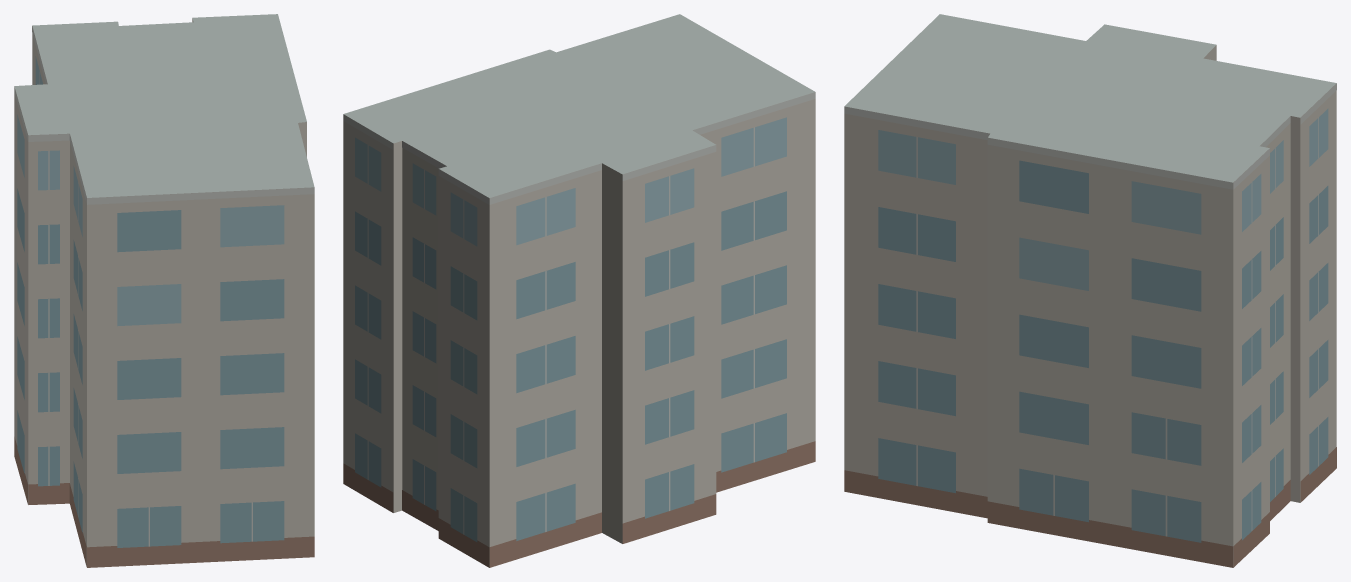
The model's file is survey-upis-32525942.glb.
3 views of the same model, side by side, from view 1: azimuth 30°, elevation 25°; view 2: azimuth 150°, elevation 25°; view 3: azimuth 270°, elevation 25° (orthographic). The views are drawn at different scales.
Parts seen in each view (by area): view 1: survey-upis-32525942.tmp; view 2: survey-upis-32525942.tmp; view 3: survey-upis-32525942.tmp.
Part boxes in pixels (x1,y1,x2,y2): survey-upis-32525942.tmp: (14, 14, 314, 567); survey-upis-32525942.tmp: (343, 14, 815, 567); survey-upis-32525942.tmp: (844, 14, 1336, 567).
Size of the model in its own units: 12.4 by 13.2 by 15.3.
